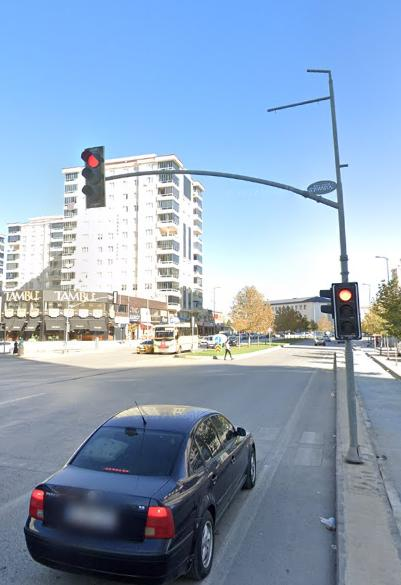redlight: (83, 145, 109, 206), (333, 283, 360, 333)
